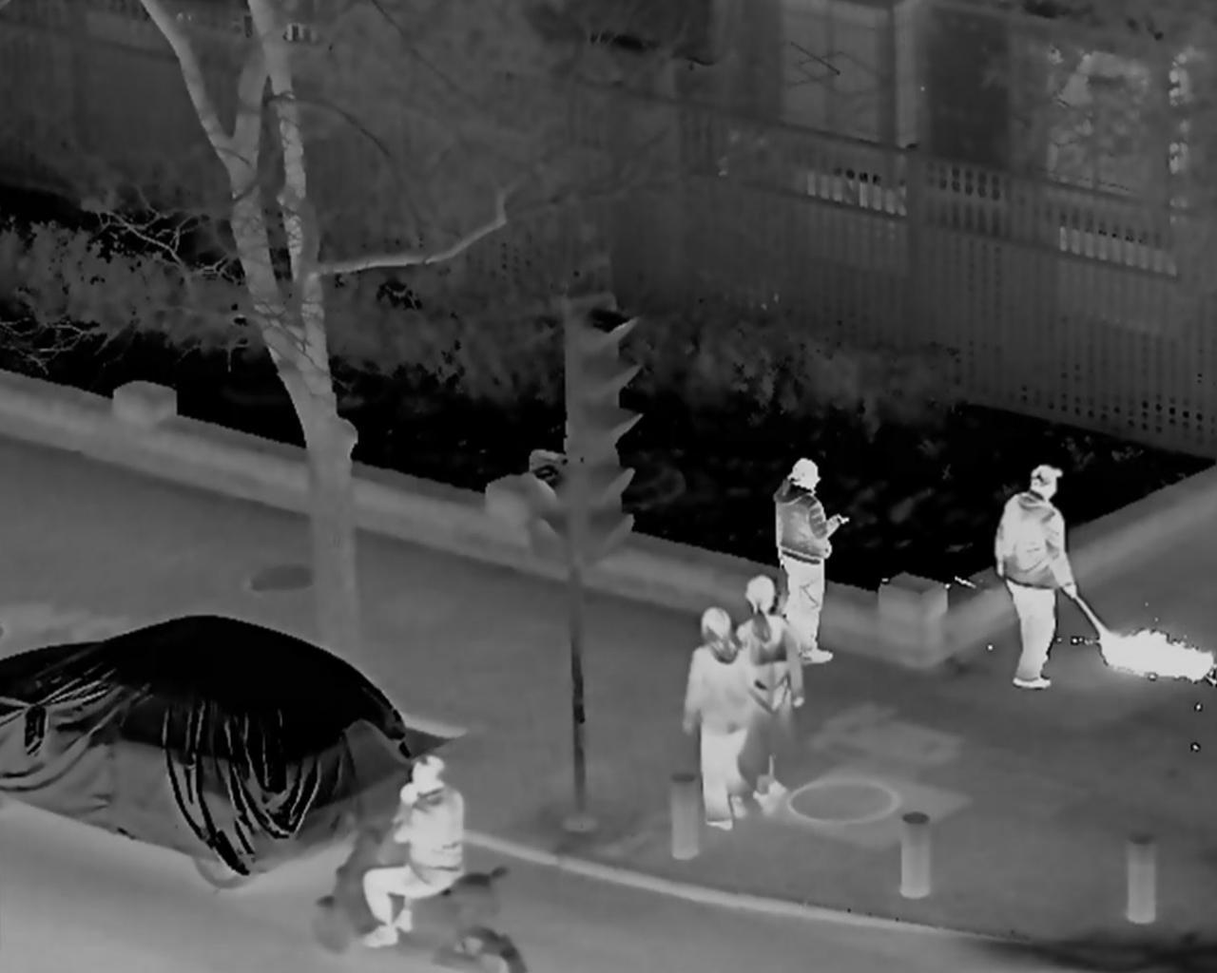person: (365, 757, 467, 953), (993, 460, 1078, 689), (734, 577, 799, 822), (770, 453, 840, 674), (683, 606, 749, 836)
